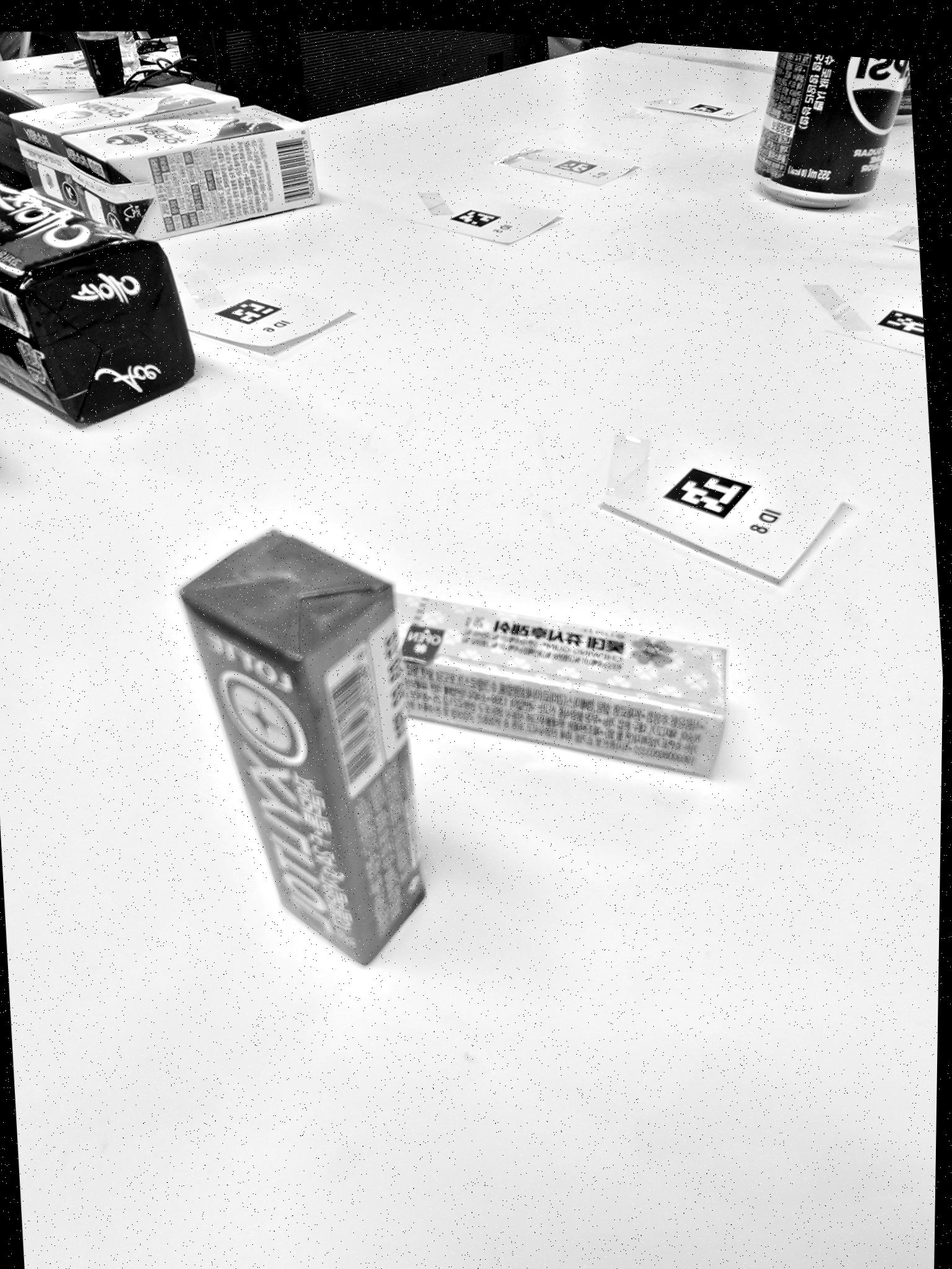gum_green: (180, 531, 423, 964)
gum_yellow: (395, 594, 726, 775)
